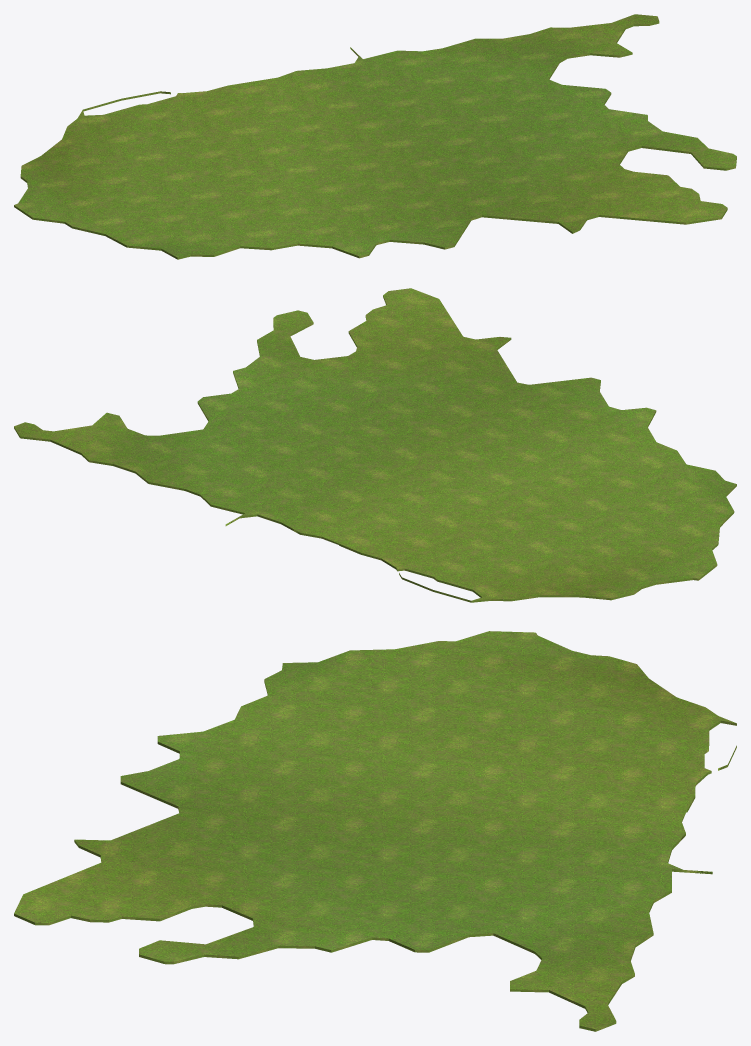
The model's file is lawn_02.gltf.
3 renders of one model, top to bottom at view 1: azimuth 30°, elevation 25°; view 2: azimuth 150°, elevation 25°; view 3: azimuth 270°, elevation 25°, orthographic. The views are drawn at different scales.
Visible parts, largest first — view 1: lawn_02.surface, lawn_02.sides; view 2: lawn_02.surface, lawn_02.sides; view 3: lawn_02.surface, lawn_02.sides.
Part boxes in pixels (box(x1,y1,x2,y2)): lawn_02.surface: box(14, 14, 736, 257); lawn_02.sides: box(14, 21, 736, 259); lawn_02.surface: box(14, 288, 736, 600); lawn_02.sides: box(14, 295, 736, 602); lawn_02.surface: box(14, 631, 735, 1029); lawn_02.sides: box(14, 680, 736, 1031).
Bounding box in the file's own units: 20.8 × 0.6766 × 15.6.
1 material, 1 textured.
